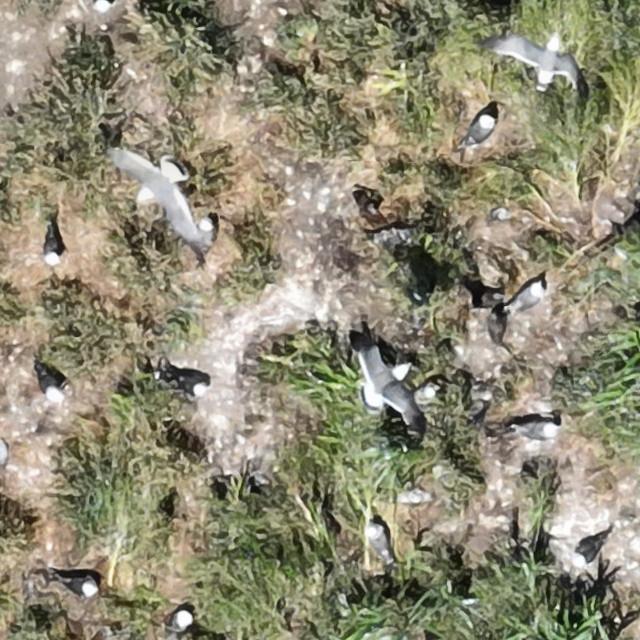F: (117, 149, 198, 244), (502, 37, 590, 87), (366, 352, 417, 422)
umineko: (570, 534, 605, 568), (170, 371, 209, 394), (55, 575, 97, 596), (510, 284, 543, 310), (467, 114, 494, 144), (517, 420, 559, 438), (368, 527, 389, 560), (44, 228, 62, 263), (41, 370, 63, 398), (169, 610, 191, 634), (412, 385, 437, 404), (200, 218, 216, 246), (0, 438, 6, 467)
